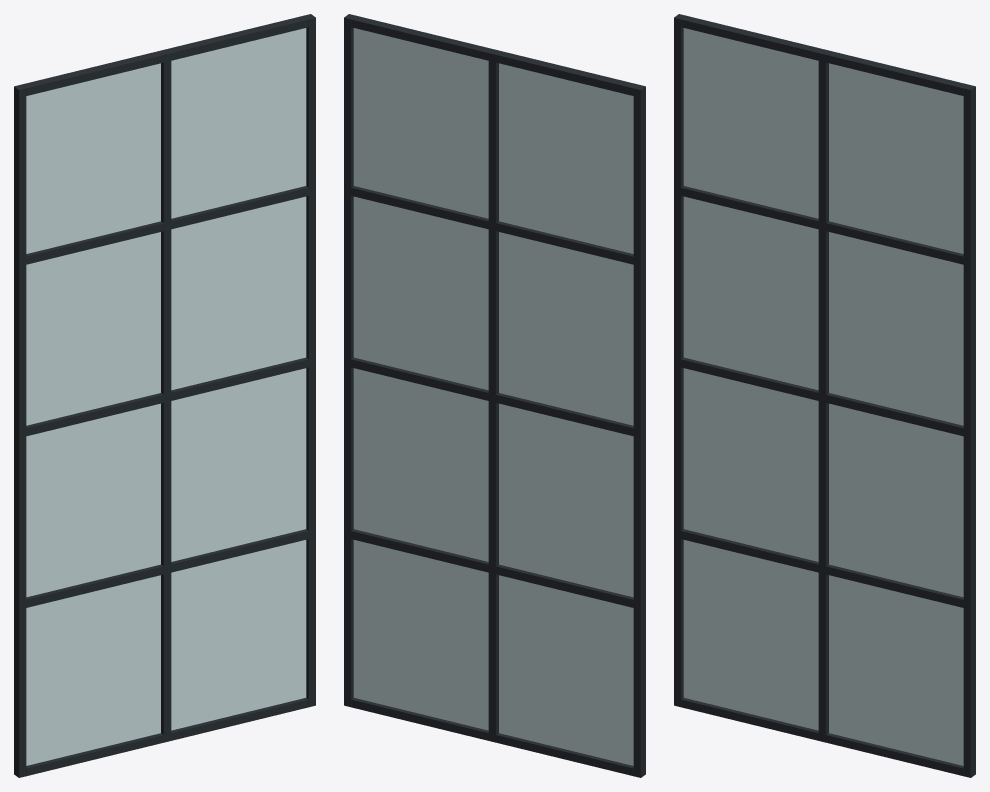
Rendered from black-grid-glass-shower-partition-14.glb.
3 renders of one model, left to right at view 1: azimuth 30°, elevation 25°; view 2: azimuth 150°, elevation 25°; view 3: azimuth 330°, elevation 25°, orthographic.
Parts seen in each view (by area): view 1: Fixed shower screen, Fixed shower screen frame, Grid crossrails, Grid mullion; view 2: Fixed shower screen, Fixed shower screen frame, Grid crossrails, Grid mullion; view 3: Fixed shower screen, Fixed shower screen frame, Grid crossrails, Grid mullion.
Part boxes in pixels (x1,y1,x2,y2): Fixed shower screen: (26, 28, 306, 765); Fixed shower screen frame: (14, 14, 315, 777); Grid crossrails: (23, 186, 311, 608); Grid mullion: (161, 57, 171, 738); Fixed shower screen: (353, 28, 633, 765); Fixed shower screen frame: (344, 14, 645, 777); Grid crossrails: (348, 186, 636, 608); Grid mullion: (488, 57, 498, 738); Fixed shower screen: (683, 28, 963, 765); Fixed shower screen frame: (674, 14, 975, 777); Grid crossrails: (678, 186, 966, 608); Grid mullion: (818, 57, 828, 738).
Size of the model in its own units: 0.924 by 2.04 by 0.028.
